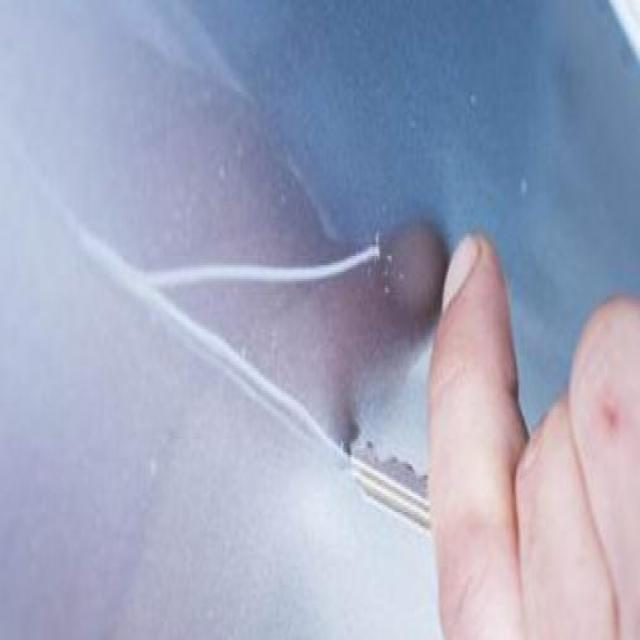scratch: (152, 323, 345, 454), (116, 228, 394, 300)
